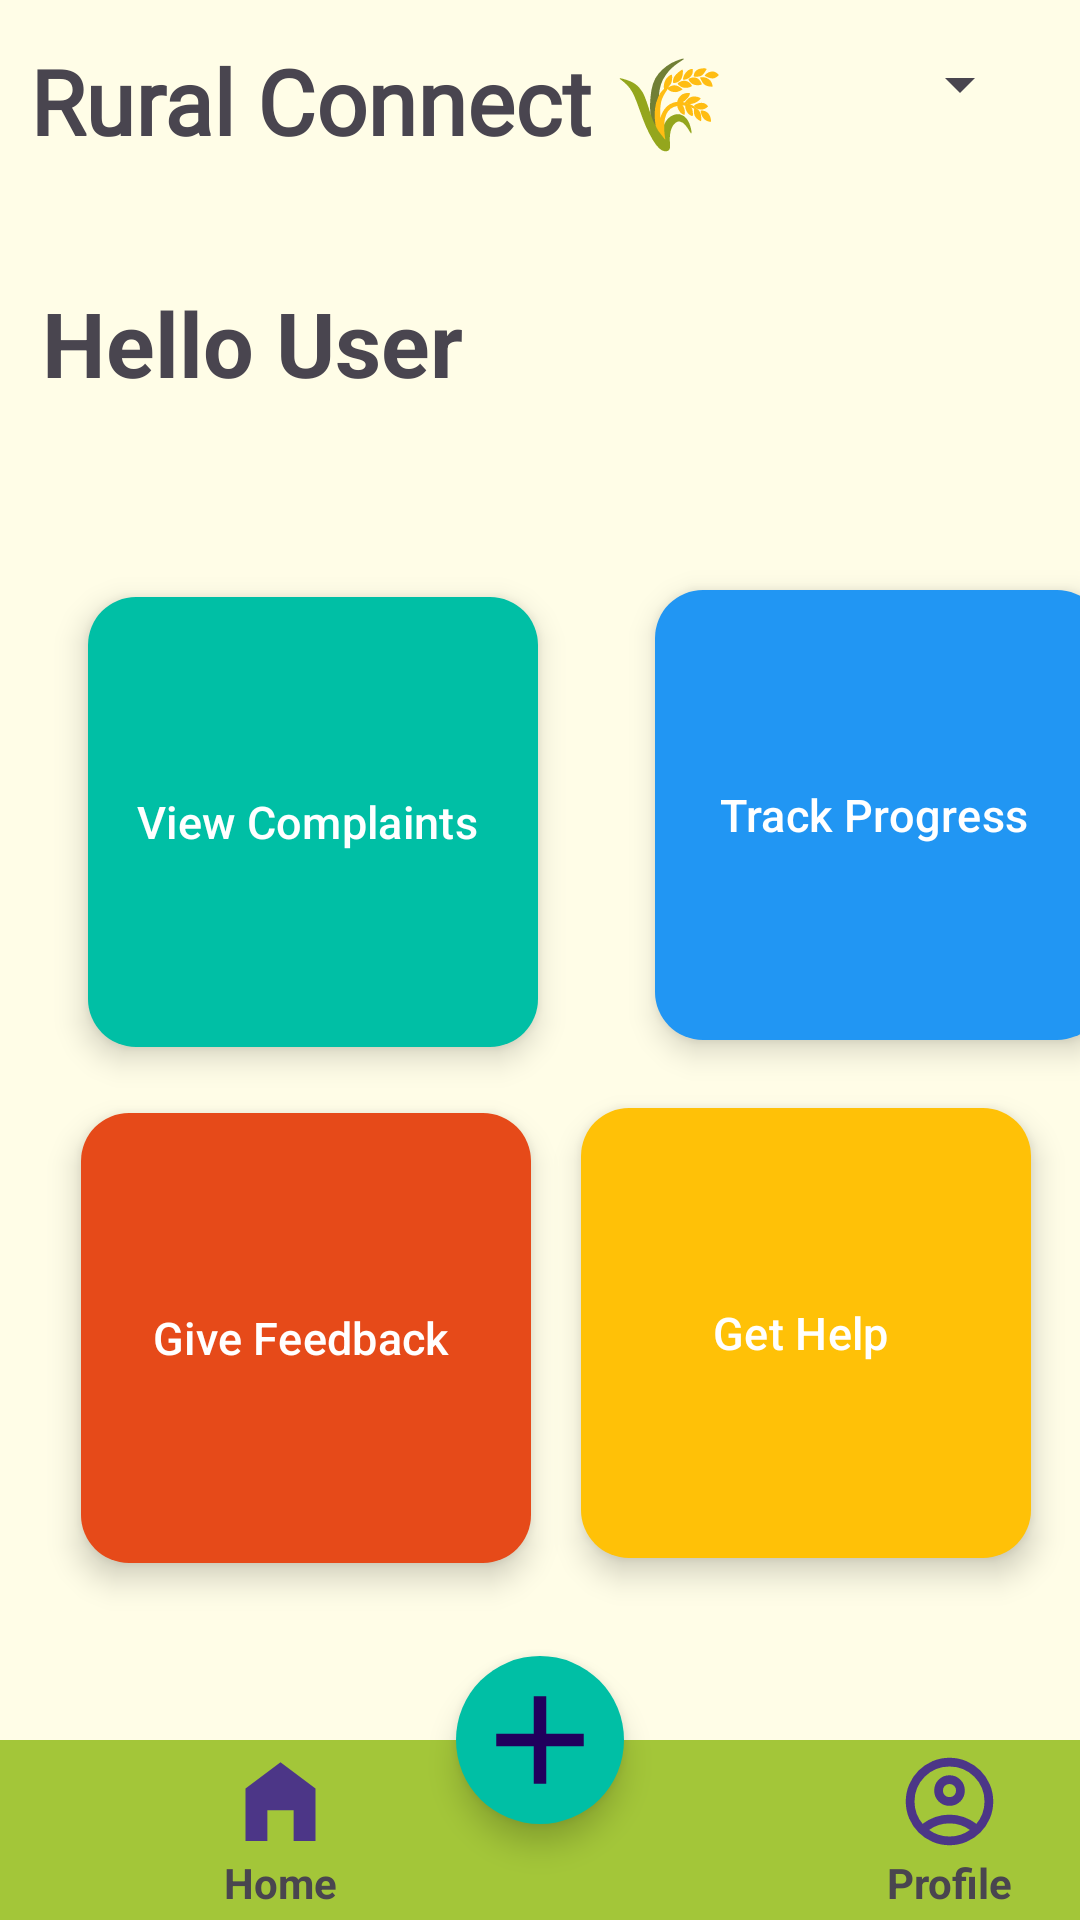

Icon click points for this 1080w x 1920h phone screenshot, format [x,y]:
account circle: [949,1801]
Add Complaint: [540,1740]
